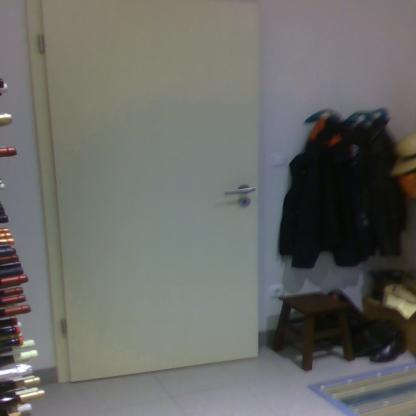door: (41, 4, 264, 368)
hinged: (60, 316, 71, 342), (36, 34, 46, 57)
lever: (224, 184, 254, 196)
